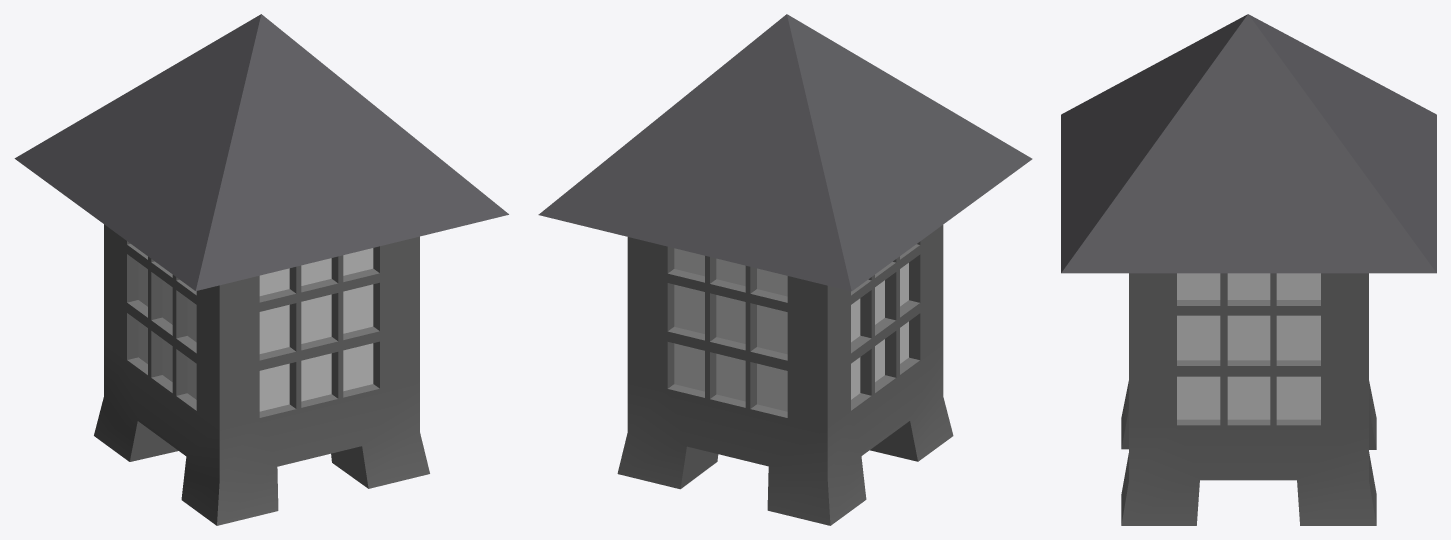
File: lantern3.fbx
3 views of the same model, side by side, from view 1: azimuth 30°, elevation 25°; view 2: azimuth 150°, elevation 25°; view 3: azimuth 270°, elevation 25° (orthographic). The views are drawn at different scales.
Parts seen in each view (by area): view 1: lantern3; view 2: lantern3; view 3: lantern3.
Boxes of the visible parts, bbox=[...] form: lantern3: bbox=[14, 14, 508, 525]; lantern3: bbox=[538, 14, 1032, 525]; lantern3: bbox=[1061, 14, 1436, 525].
Size of the model in its own units: 139 by 186 by 139.
